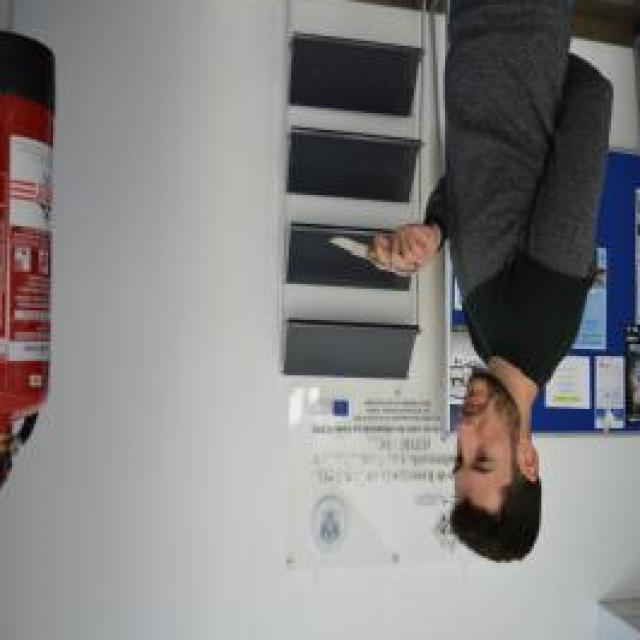knife: (324, 232, 421, 282)
